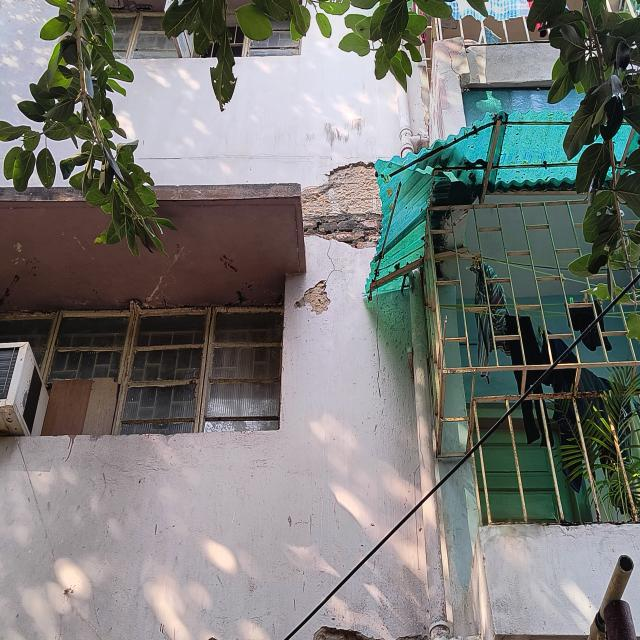Scaling: (302, 162, 381, 248), (294, 280, 330, 314)
